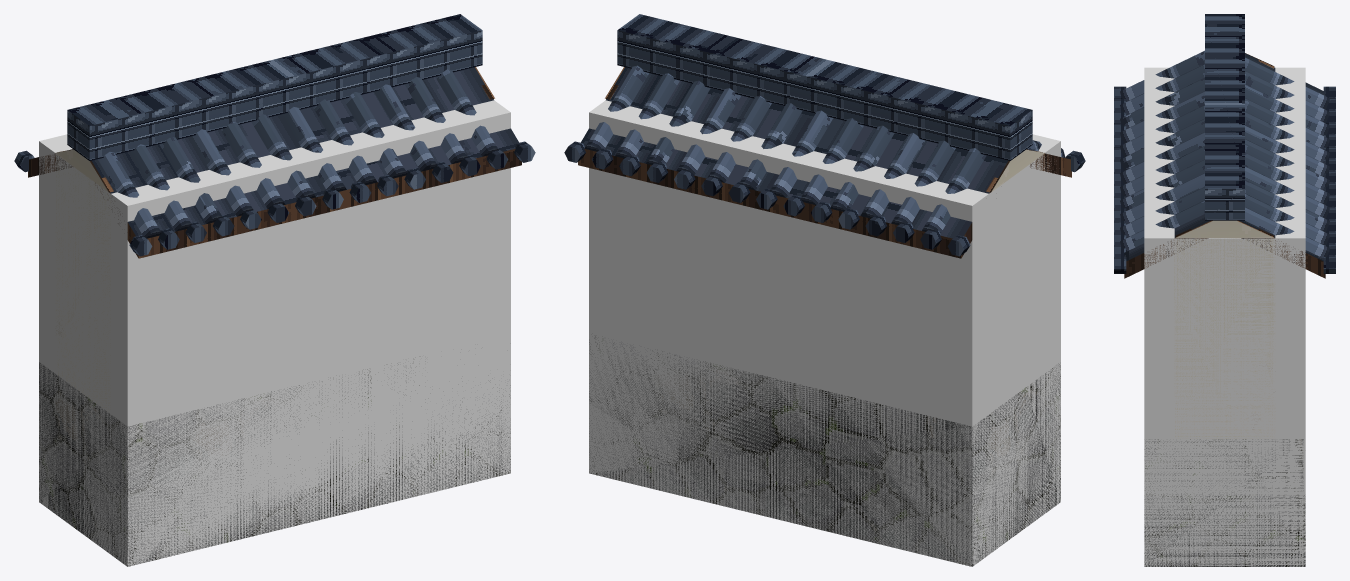
Rendered from JP_Rich_GateWall_4m_A.glb.
3 views of the same model, side by side, from view 1: azimuth 30°, elevation 25°; view 2: azimuth 150°, elevation 25°; view 3: azimuth 270°, elevation 25° (orthographic). The views are drawn at different scales.
Visible parts, largest first — view 1: COL_JP_Rich_GateWall_4m_A, JP_Rich_GateWall_4m_A; view 2: COL_JP_Rich_GateWall_4m_A, JP_Rich_GateWall_4m_A; view 3: COL_JP_Rich_GateWall_4m_A, JP_Rich_GateWall_4m_A.
Part boxes in pixels (x1,y1,x2,y2): COL_JP_Rich_GateWall_4m_A: (39, 100, 510, 566); JP_Rich_GateWall_4m_A: (14, 14, 535, 566); COL_JP_Rich_GateWall_4m_A: (589, 100, 1060, 566); JP_Rich_GateWall_4m_A: (564, 14, 1085, 566); COL_JP_Rich_GateWall_4m_A: (1144, 67, 1305, 566); JP_Rich_GateWall_4m_A: (1114, 14, 1335, 566).
Size of the model in its own units: 4.17 by 4.17 by 2.2.
Materials: 10 (10 with a texture image).
